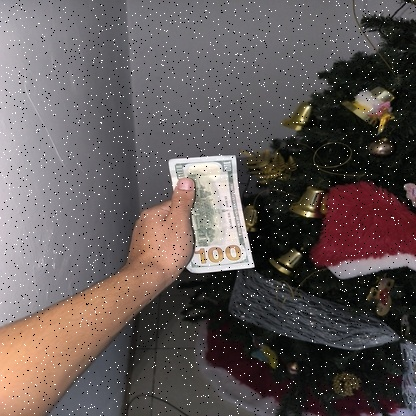one_hundred-back: (164, 154, 257, 277)
